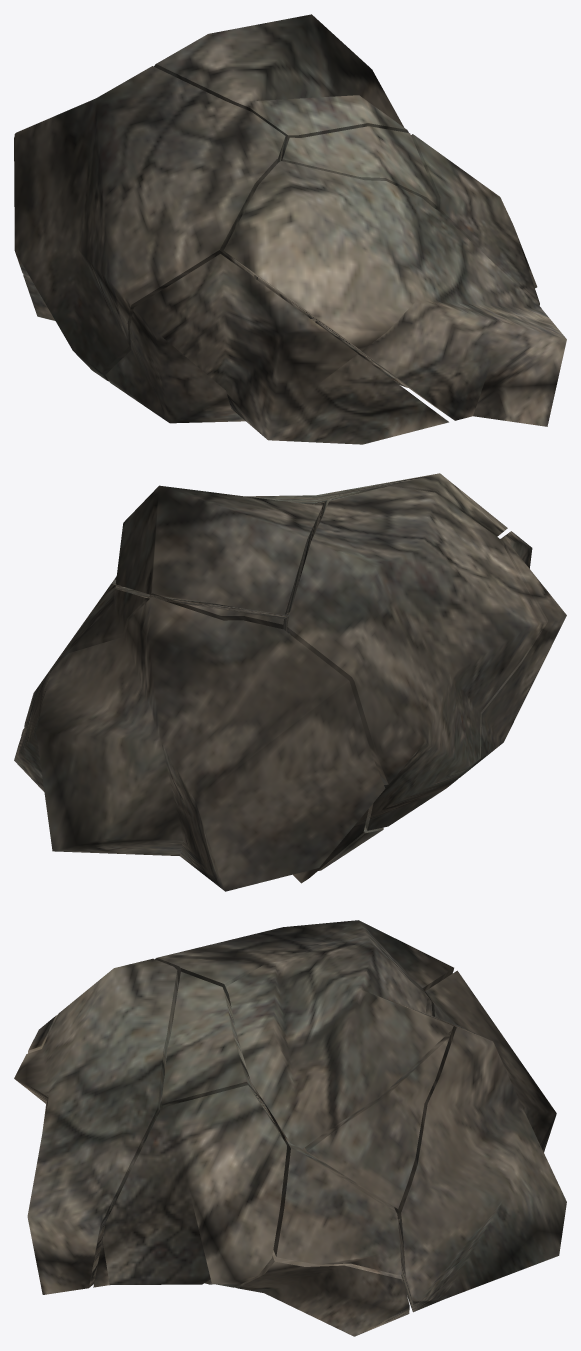
File: Broke_Clif_rock_02.fbx
The picture shows the model from 3 angles, top to bottom: view 1: azimuth 30°, elevation 25°; view 2: azimuth 150°, elevation 25°; view 3: azimuth 270°, elevation 25°; orthographic projection. The views are drawn at different scales.
Parts seen in each view (by area): view 1: broke_PS_08, broke_PS_03, broke_PS_04, broke_PS_07, broke_PS_09, broke_PS_05; view 2: broke_PS_01, broke_PS_08, broke_PS_07, broke_PS_04, broke_PS_02, broke_PS_03; view 3: broke_PS_01, broke_PS_03, broke_PS_07, broke_PS_09, broke_PS_010, broke_PS_02, broke_PS_08, broke_PS_06, broke_PS_05.
Part boxes in pixels (x1,y1,x2,y2): broke_PS_08: (14,66,285,381); broke_PS_03: (223,161,566,426); broke_PS_04: (105,254,448,444); broke_PS_07: (154,14,408,160); broke_PS_09: (311,134,539,387); broke_PS_05: (257,126,437,318); broke_PS_01: (14,597,385,891); broke_PS_08: (287,486,546,830); broke_PS_07: (115,485,327,614); broke_PS_04: (460,531,566,777); broke_PS_02: (50,583,290,671); broke_PS_03: (297,473,507,536); broke_PS_01: (394,970,566,1312); broke_PS_03: (14,958,178,1294); broke_PS_07: (226,935,453,1148); broke_PS_09: (93,1085,286,1287); broke_PS_010: (263,1101,401,1274); broke_PS_02: (305,986,451,1208); broke_PS_08: (155,920,453,1006); broke_PS_06: (205,1250,409,1336); broke_PS_05: (161,971,263,1107).
Bounding box in the file's own units: 7.28 × 5.69 × 8.78.
